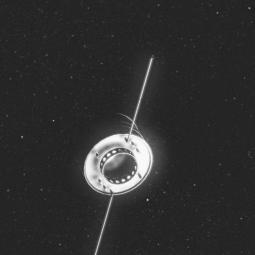double_start: (68, 98, 161, 205)
